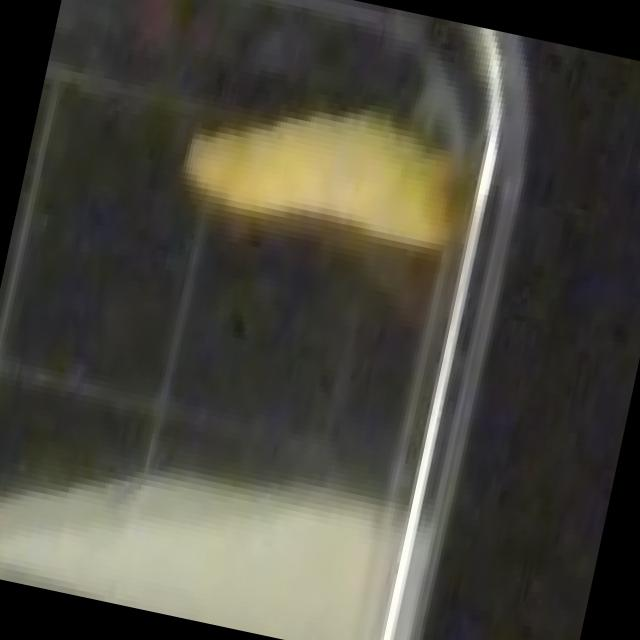larva: (158, 52, 494, 288)
